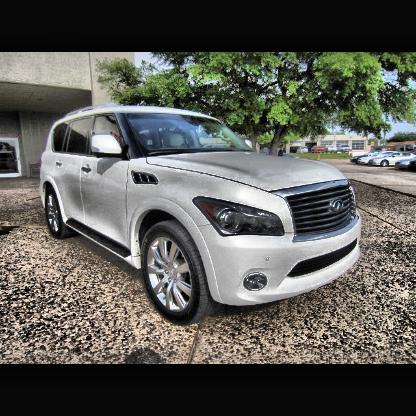Infiniti QX56 SUV 2011: (42, 105, 363, 326)
